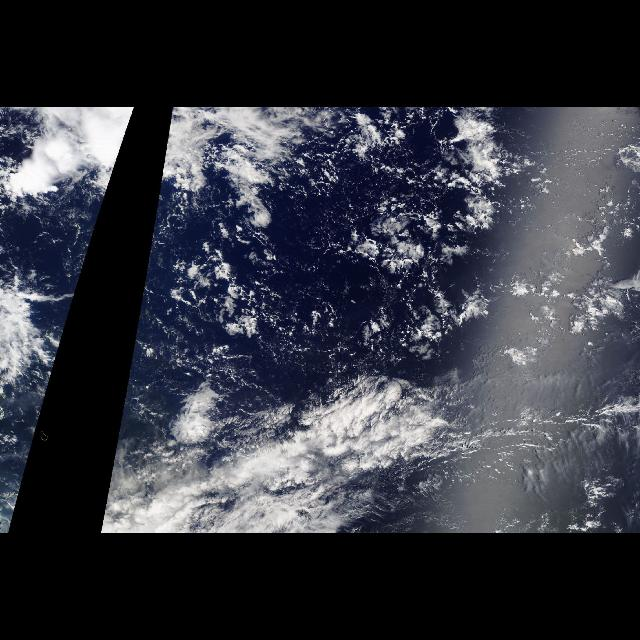Gravel: (266, 183, 482, 377)
